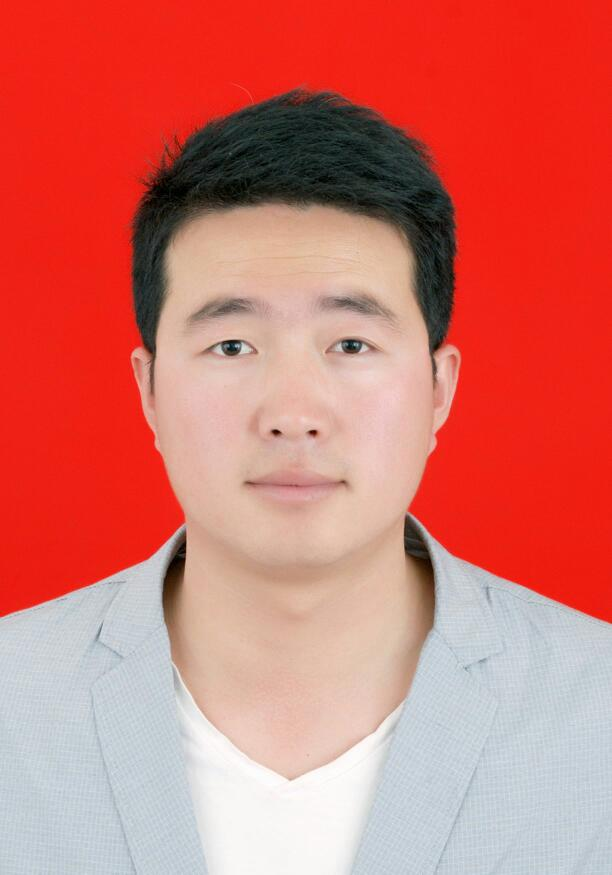unmask: (148, 215, 430, 545)
